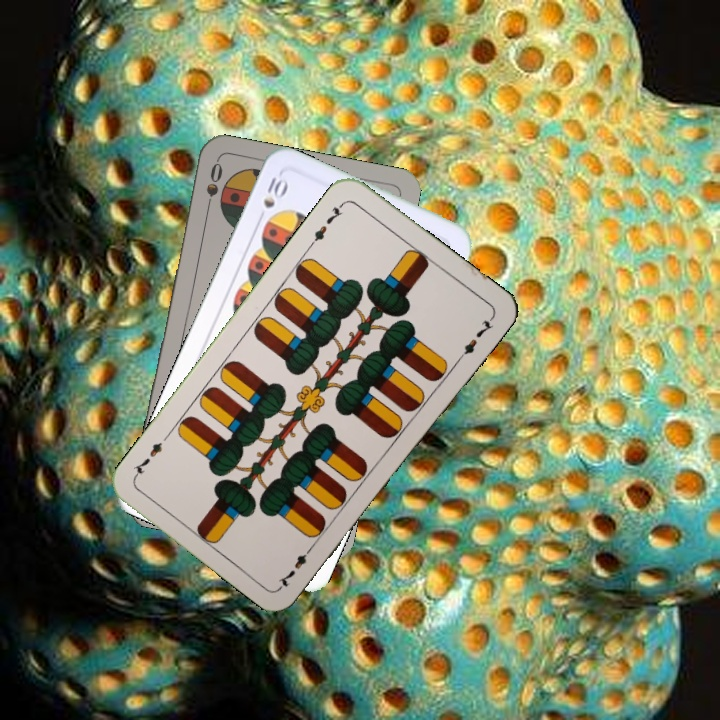E7: (274, 540, 317, 590), (306, 198, 347, 249)
S10: (253, 170, 291, 226)
SO: (201, 158, 225, 217)
